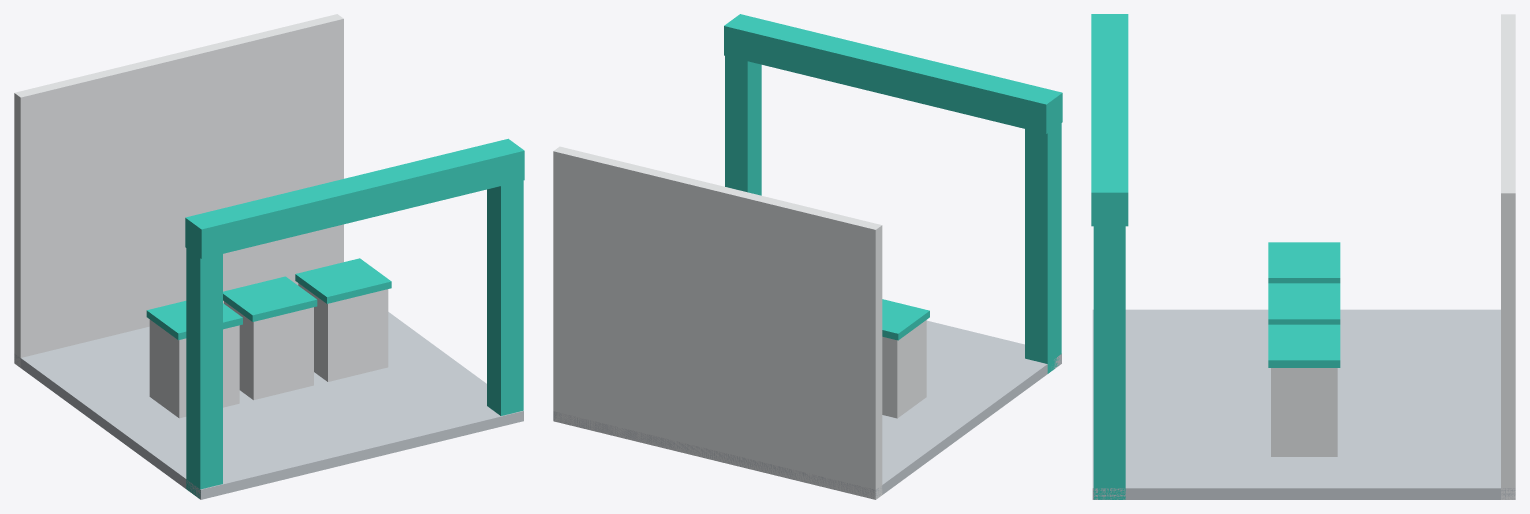
The picture shows the model from 3 angles, left to right: view 1: azimuth 30°, elevation 25°; view 2: azimuth 150°, elevation 25°; view 3: azimuth 270°, elevation 25°; orthographic projection. The views are drawn at different scales.
Visible parts, largest first — view 1: Exhibition Booth Concept; view 2: Exhibition Booth Concept; view 3: Exhibition Booth Concept.
Part boxes in pixels (x1,y1,x2,y2): Exhibition Booth Concept: (14,14,524,499); Exhibition Booth Concept: (553,14,1062,499); Exhibition Booth Concept: (1091,14,1515,499).
Bounding box in the file's own units: 4 × 3.2 × 4.02.
